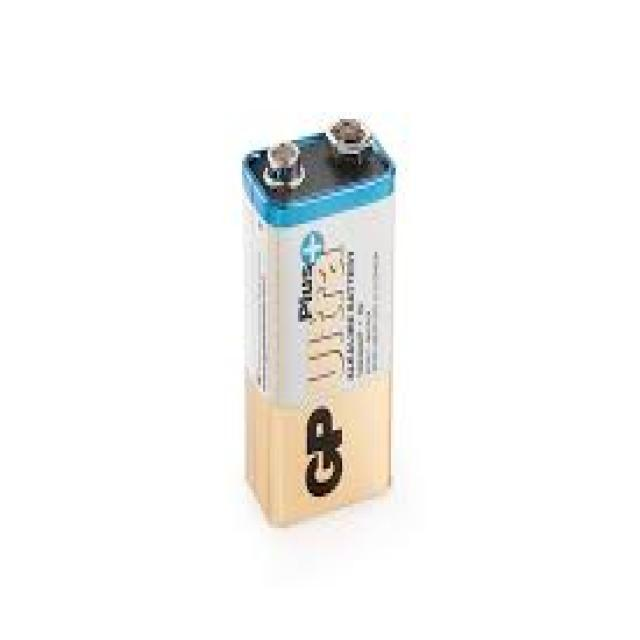Battery: (199, 96, 414, 551)
